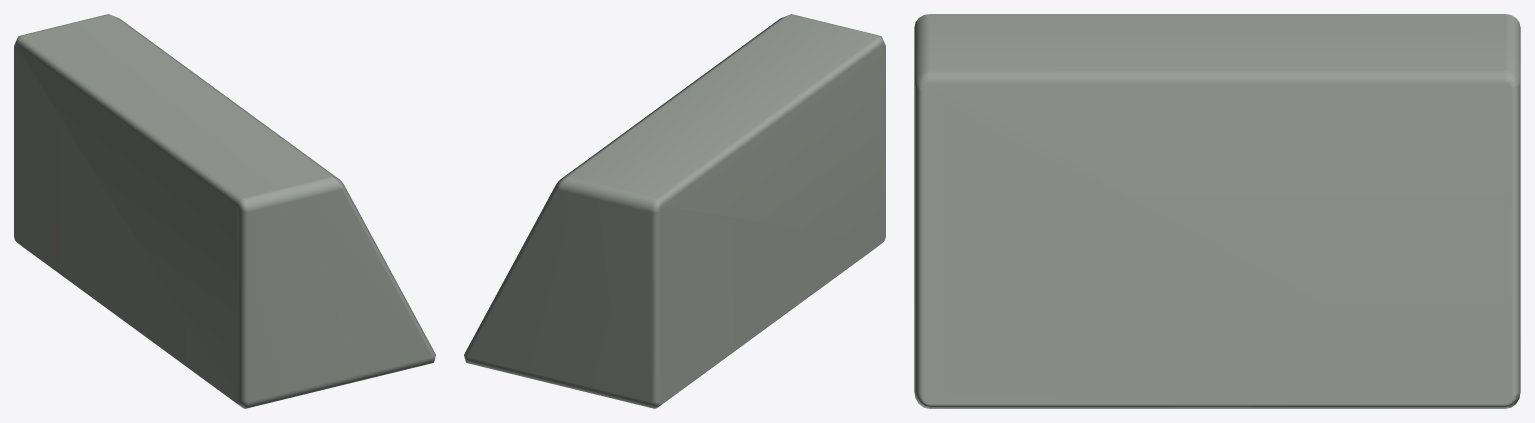
File: Env_Wall_SpaceStation_Straight_1x2.fbx
3 renders of one model, left to right at view 1: azimuth 30°, elevation 25°; view 2: azimuth 150°, elevation 25°; view 3: azimuth 270°, elevation 25°, orthographic. The views are drawn at different scales.
Visible parts, largest first — view 1: Cube.030; view 2: Cube.030; view 3: Cube.030.
Boxes of the visible parts, left/top/right/bottom form: Cube.030: left=14, top=14, right=435, bottom=408; Cube.030: left=464, top=14, right=885, bottom=408; Cube.030: left=914, top=14, right=1520, bottom=408.
Size of the model in its own units: 98.66 by 100 by 200.
